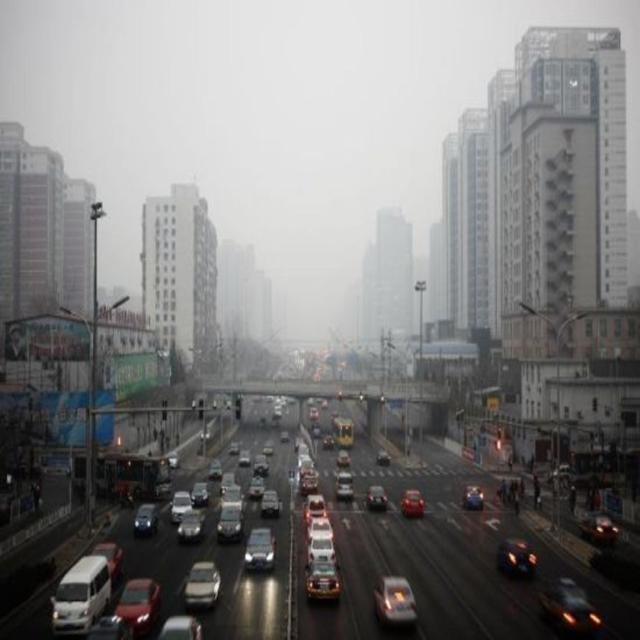car: (53, 552, 114, 634), (536, 582, 604, 638), (112, 578, 164, 638), (373, 575, 418, 629), (183, 560, 221, 614), (496, 536, 538, 578), (244, 527, 276, 572), (578, 513, 620, 546), (306, 564, 342, 602), (150, 616, 202, 640), (132, 502, 158, 538), (94, 540, 123, 571), (177, 512, 204, 544), (217, 504, 241, 538), (400, 489, 426, 518), (308, 530, 332, 560), (171, 489, 189, 521), (304, 492, 326, 518), (334, 472, 354, 497), (260, 490, 280, 514), (464, 487, 484, 507), (253, 453, 269, 478), (369, 486, 386, 509), (193, 483, 209, 505), (248, 476, 264, 496), (220, 484, 240, 497), (308, 514, 326, 528), (208, 457, 218, 473)
truck: (76, 454, 170, 501), (334, 417, 354, 448)
